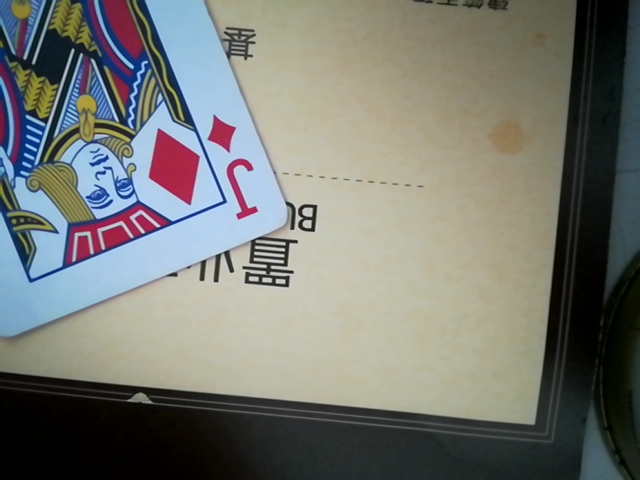fk j: (0, 0, 300, 342)
